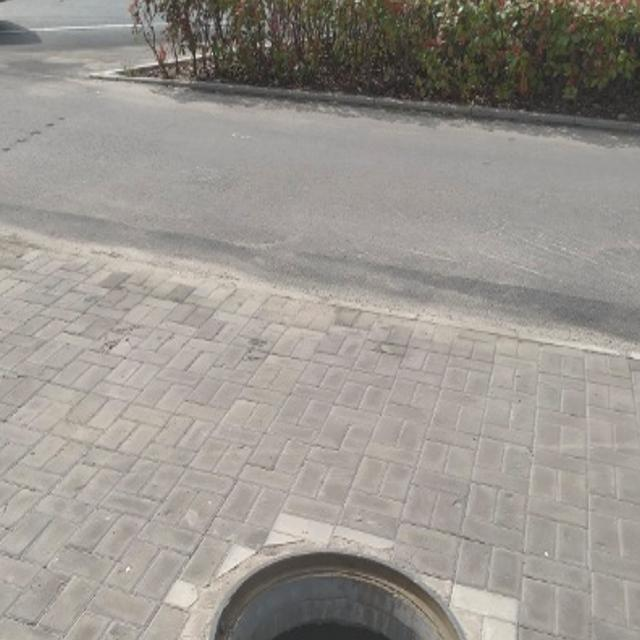lose: (204, 541, 476, 640)
